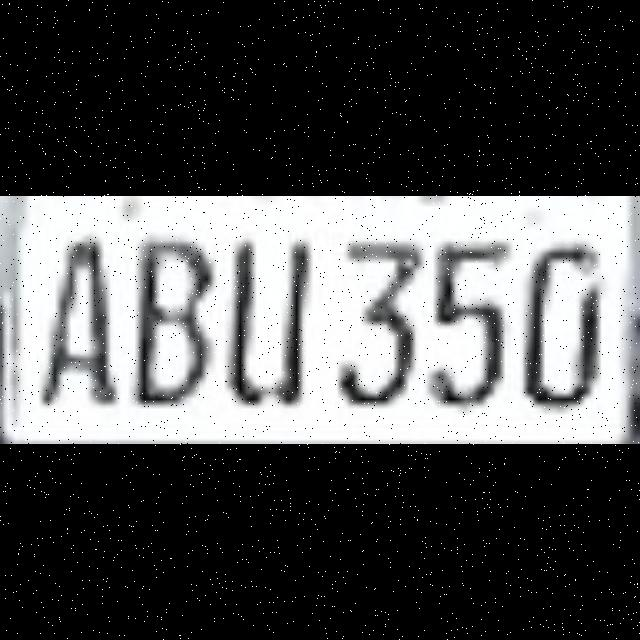0: (518, 226, 610, 418)
3: (330, 226, 422, 418)
5: (424, 226, 518, 418)
A: (49, 226, 142, 418)
B: (142, 226, 235, 418)
U: (238, 226, 330, 418)
